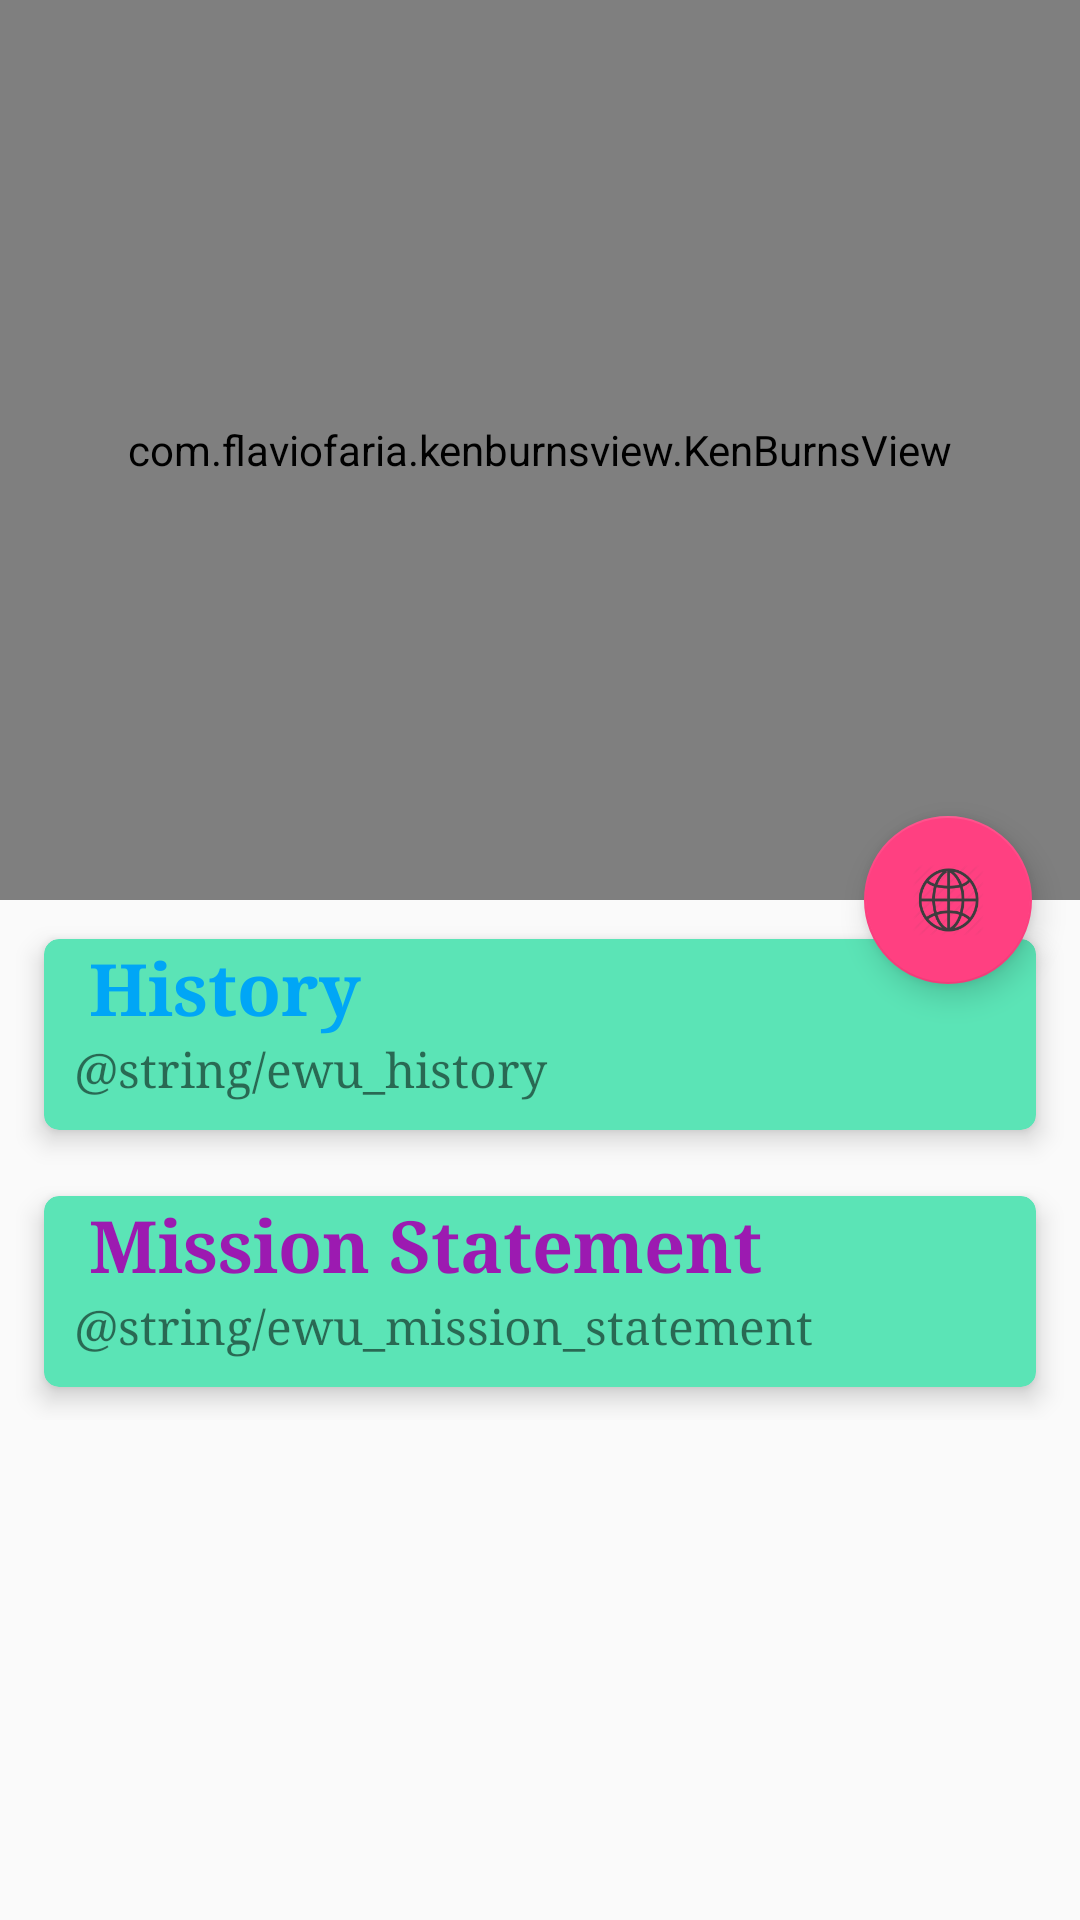

Icon click points for this 1080×1920 phone screenshot, format (x,y):
web: (948,900)
